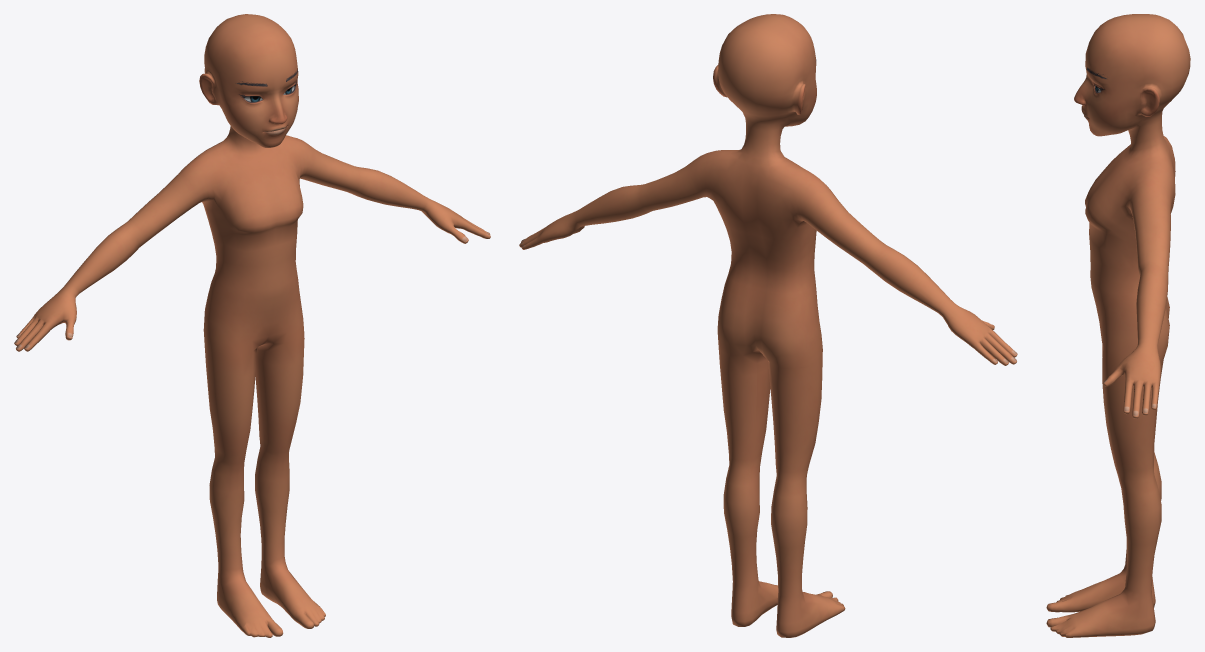
Rendered from frame_0062.glb.
3 views of the same model, side by side, from view 1: azimuth 30°, elevation 25°; view 2: azimuth 150°, elevation 25°; view 3: azimuth 270°, elevation 25° (orthographic). The views are drawn at different scales.
Visible parts, largest first — view 1: frame_0062_head_geo; view 2: frame_0062_head_geo; view 3: frame_0062_head_geo.
Part boxes in pixels (box(x1,y1,x2,y2)): frame_0062_head_geo: box(14, 14, 490, 637); frame_0062_head_geo: box(519, 14, 1017, 637); frame_0062_head_geo: box(1046, 14, 1190, 637).
Size of the model in its own units: 1.28 by 1.5 by 0.3253.
3 materials, 3 textured.
